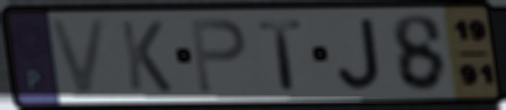8: (388, 13, 449, 94)
J: (335, 16, 384, 92)
K: (117, 18, 175, 95)
P: (187, 16, 250, 95)
T: (255, 18, 307, 93)
V: (45, 15, 111, 99)
